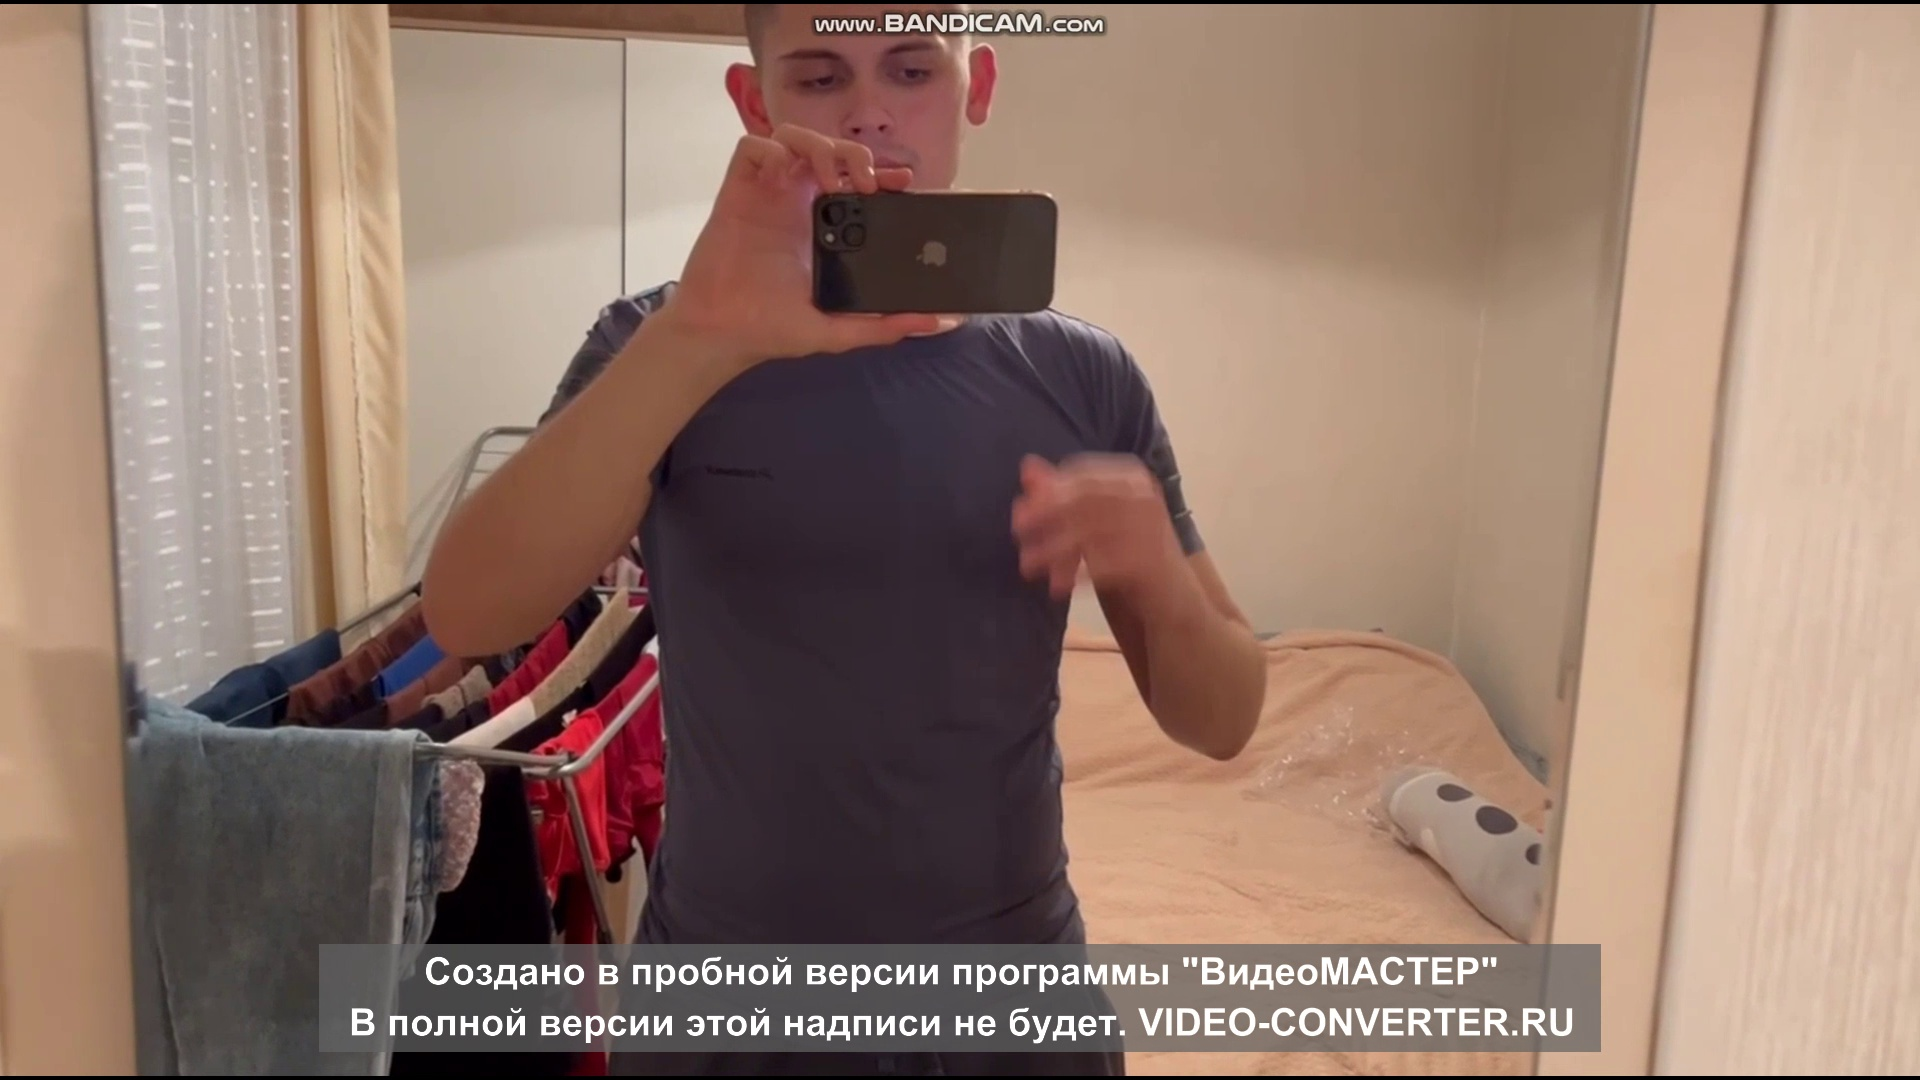Кисть: (1007, 447, 1189, 625)
